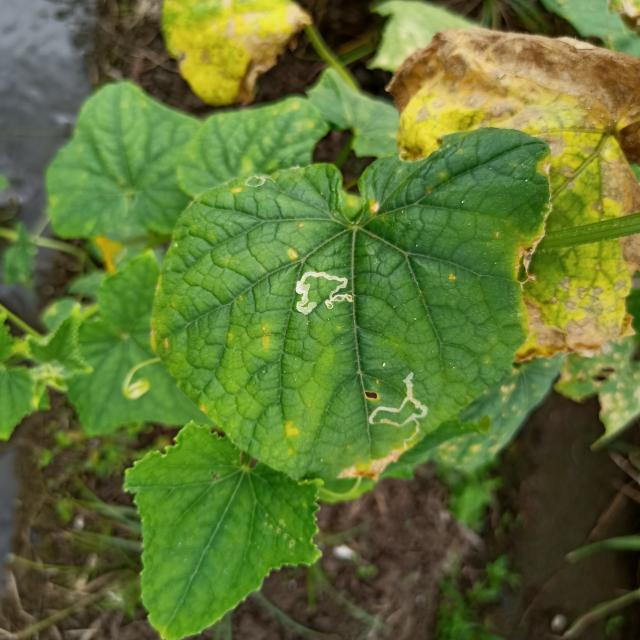disease_cucumber: (146, 326, 172, 354), (283, 418, 301, 453), (256, 326, 272, 354), (286, 247, 299, 263), (369, 200, 382, 216), (446, 270, 460, 284), (231, 185, 243, 198)
